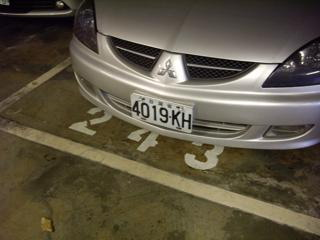plate: (130, 92, 193, 136)
